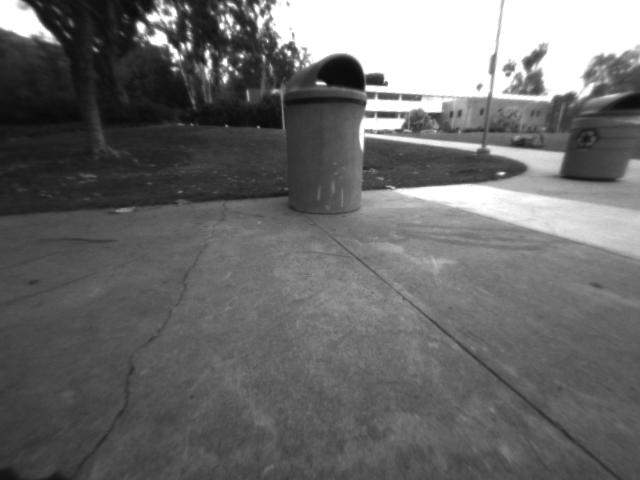trashcan: (277, 51, 380, 218)
